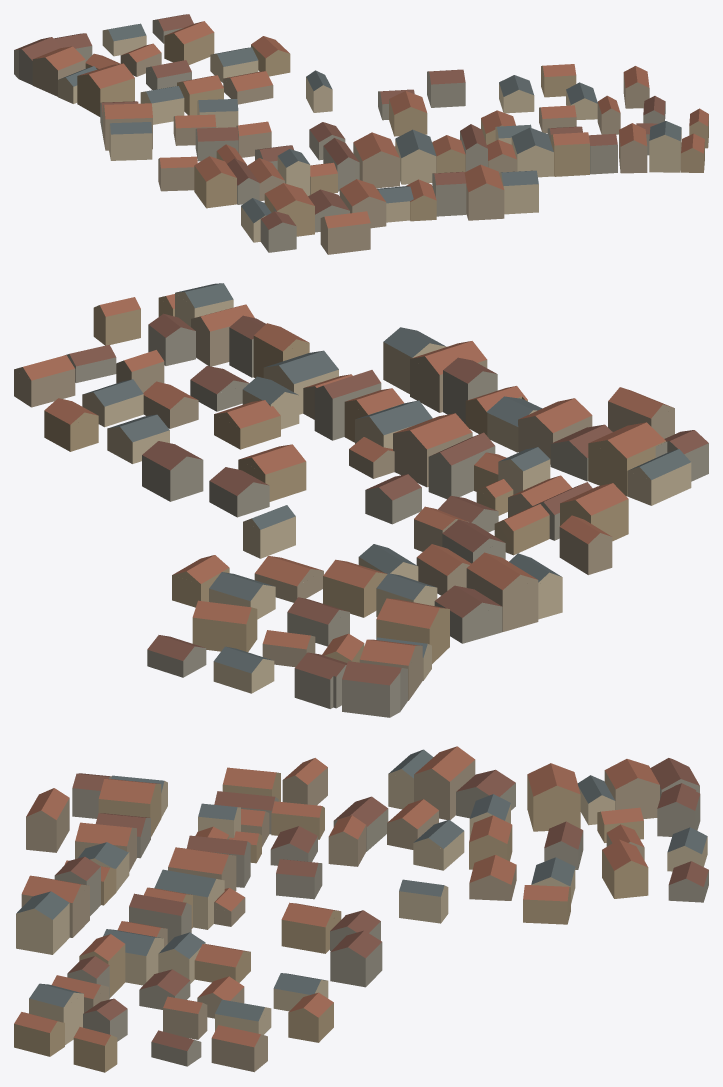
The picture shows the model from 3 angles, top to bottom: view 1: azimuth 30°, elevation 25°; view 2: azimuth 150°, elevation 25°; view 3: azimuth 270°, elevation 25°; orthographic projection. The views are drawn at different scales.
Visible parts, largest first — view 1: C_-1_3; view 2: C_-1_3; view 3: C_-1_3.
Boxes of the visible parts, box(x1,y1,x2,y2) form: C_-1_3: box(14, 14, 708, 254); C_-1_3: box(14, 283, 708, 717); C_-1_3: box(14, 746, 708, 1072).
Size of the model in its own units: 180 by 14.24 by 185.
